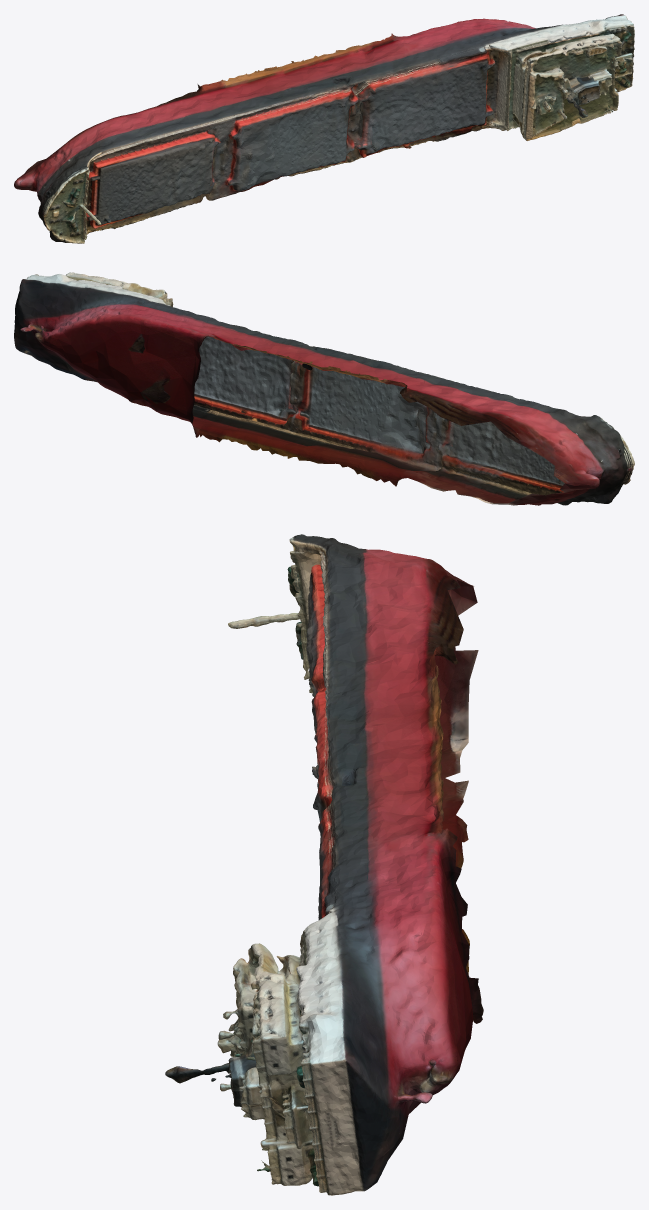
3 views of the same model, one above another, from view 1: azimuth 30°, elevation 25°; view 2: azimuth 150°, elevation 25°; view 3: azimuth 270°, elevation 25° (orthographic). The views are drawn at different scales.
Parts seen in each view (by area): view 1: Model; view 2: Model; view 3: Model.
Part boxes in pixels (<box>): Model: <box>14,14,634,243</box>; Model: <box>14,272,634,505</box>; Model: <box>165,534,483,1195</box>.
Bounding box in the file's own units: 10.61 × 2.46 × 1.79.
